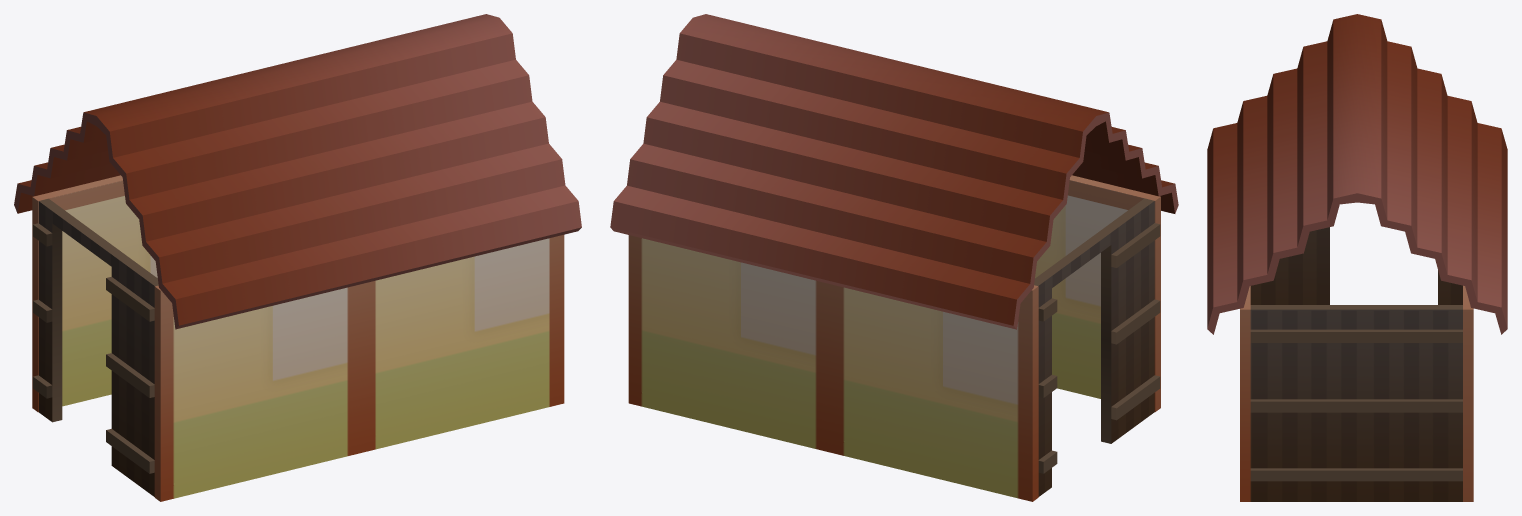
The model's file is Environment_OpenHouse_06.fbx.
3 renders of one model, left to right at view 1: azimuth 30°, elevation 25°; view 2: azimuth 150°, elevation 25°; view 3: azimuth 270°, elevation 25°, orthographic. The views are drawn at different scales.
Parts seen in each view (by area): view 1: Environment_RifledCorner_01, Environment_Wall_04, Environment_Wall_03, Environment_DoorFrame_02_Mesh, Environment_Wall_05; view 2: Environment_RifledCorner_01, Environment_Wall_05, Environment_Wall_01, Environment_DoorFrame_02_Mesh, Environment_Wall_04; view 3: Environment_RifledCorner_01, Environment_Wall_02, Environment_DoorFrame_02_Mesh, Environment_Wall_01, Environment_Wall_03.
Part boxes in pixels (x1,y1,x2,y2): Environment_RifledCorner_01: (14,14,581,329); Environment_Wall_04: (154,284,362,501); Environment_Wall_03: (362,235,564,452); Environment_DoorFrame_02_Mesh: (33,198,158,496); Environment_Wall_05: (32,175,157,412); Environment_RifledCorner_01: (610,14,1178,329); Environment_Wall_05: (830,284,1038,501); Environment_Wall_01: (628,235,830,452); Environment_DoorFrame_02_Mesh: (1034,198,1160,496); Environment_Wall_04: (1035,175,1160,411); Environment_RifledCorner_01: (1207,14,1507,334); Environment_Wall_02: (1250,305,1462,501); Environment_DoorFrame_02_Mesh: (1250,227,1462,304); Environment_Wall_01: (1463,285,1473,501); Environment_Wall_03: (1240,286,1250,501).
Size of the model in its own units: 410 by 321 by 283.
